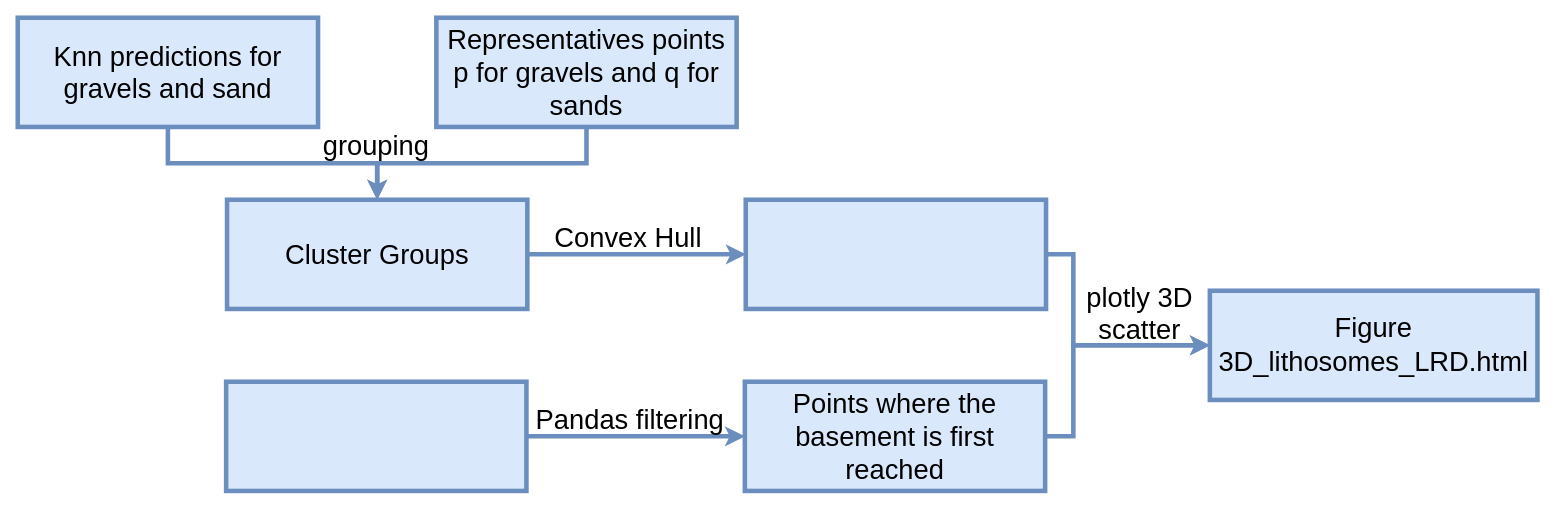
Image size: 1555x509. Some labels were removed from this diagram. The shapes that lost their labels are listed below. From the top down, each one's centre as x and y in pixels, then its label:
(895,254): Lithosomes
(375,436): Knn predictions for basement
